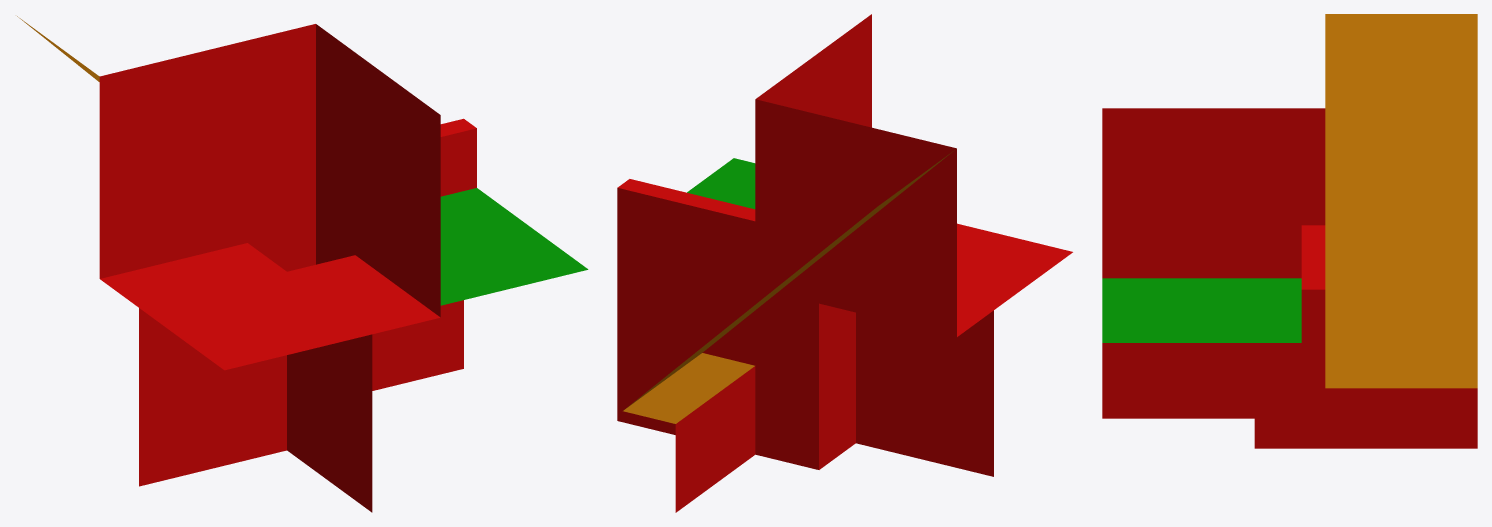
3 views of the same model, side by side, from view 1: azimuth 30°, elevation 25°; view 2: azimuth 150°, elevation 25°; view 3: azimuth 270°, elevation 25° (orthographic). The views are drawn at different scales.
Visible parts, largest first — view 1: None_E_W_E_E_S_E_E_A_None; view 2: None_E_W_E_E_S_E_E_A_None; view 3: None_E_W_E_E_S_E_E_A_None.
Part boxes in pixels (x1,y1,x2,y2): None_E_W_E_E_S_E_E_A_None: (17,16,588,512); None_E_W_E_E_S_E_E_A_None: (617,14,1072,512); None_E_W_E_E_S_E_E_A_None: (1102,14,1477,448).
Size of the model in its own units: 100 by 100 by 100.
